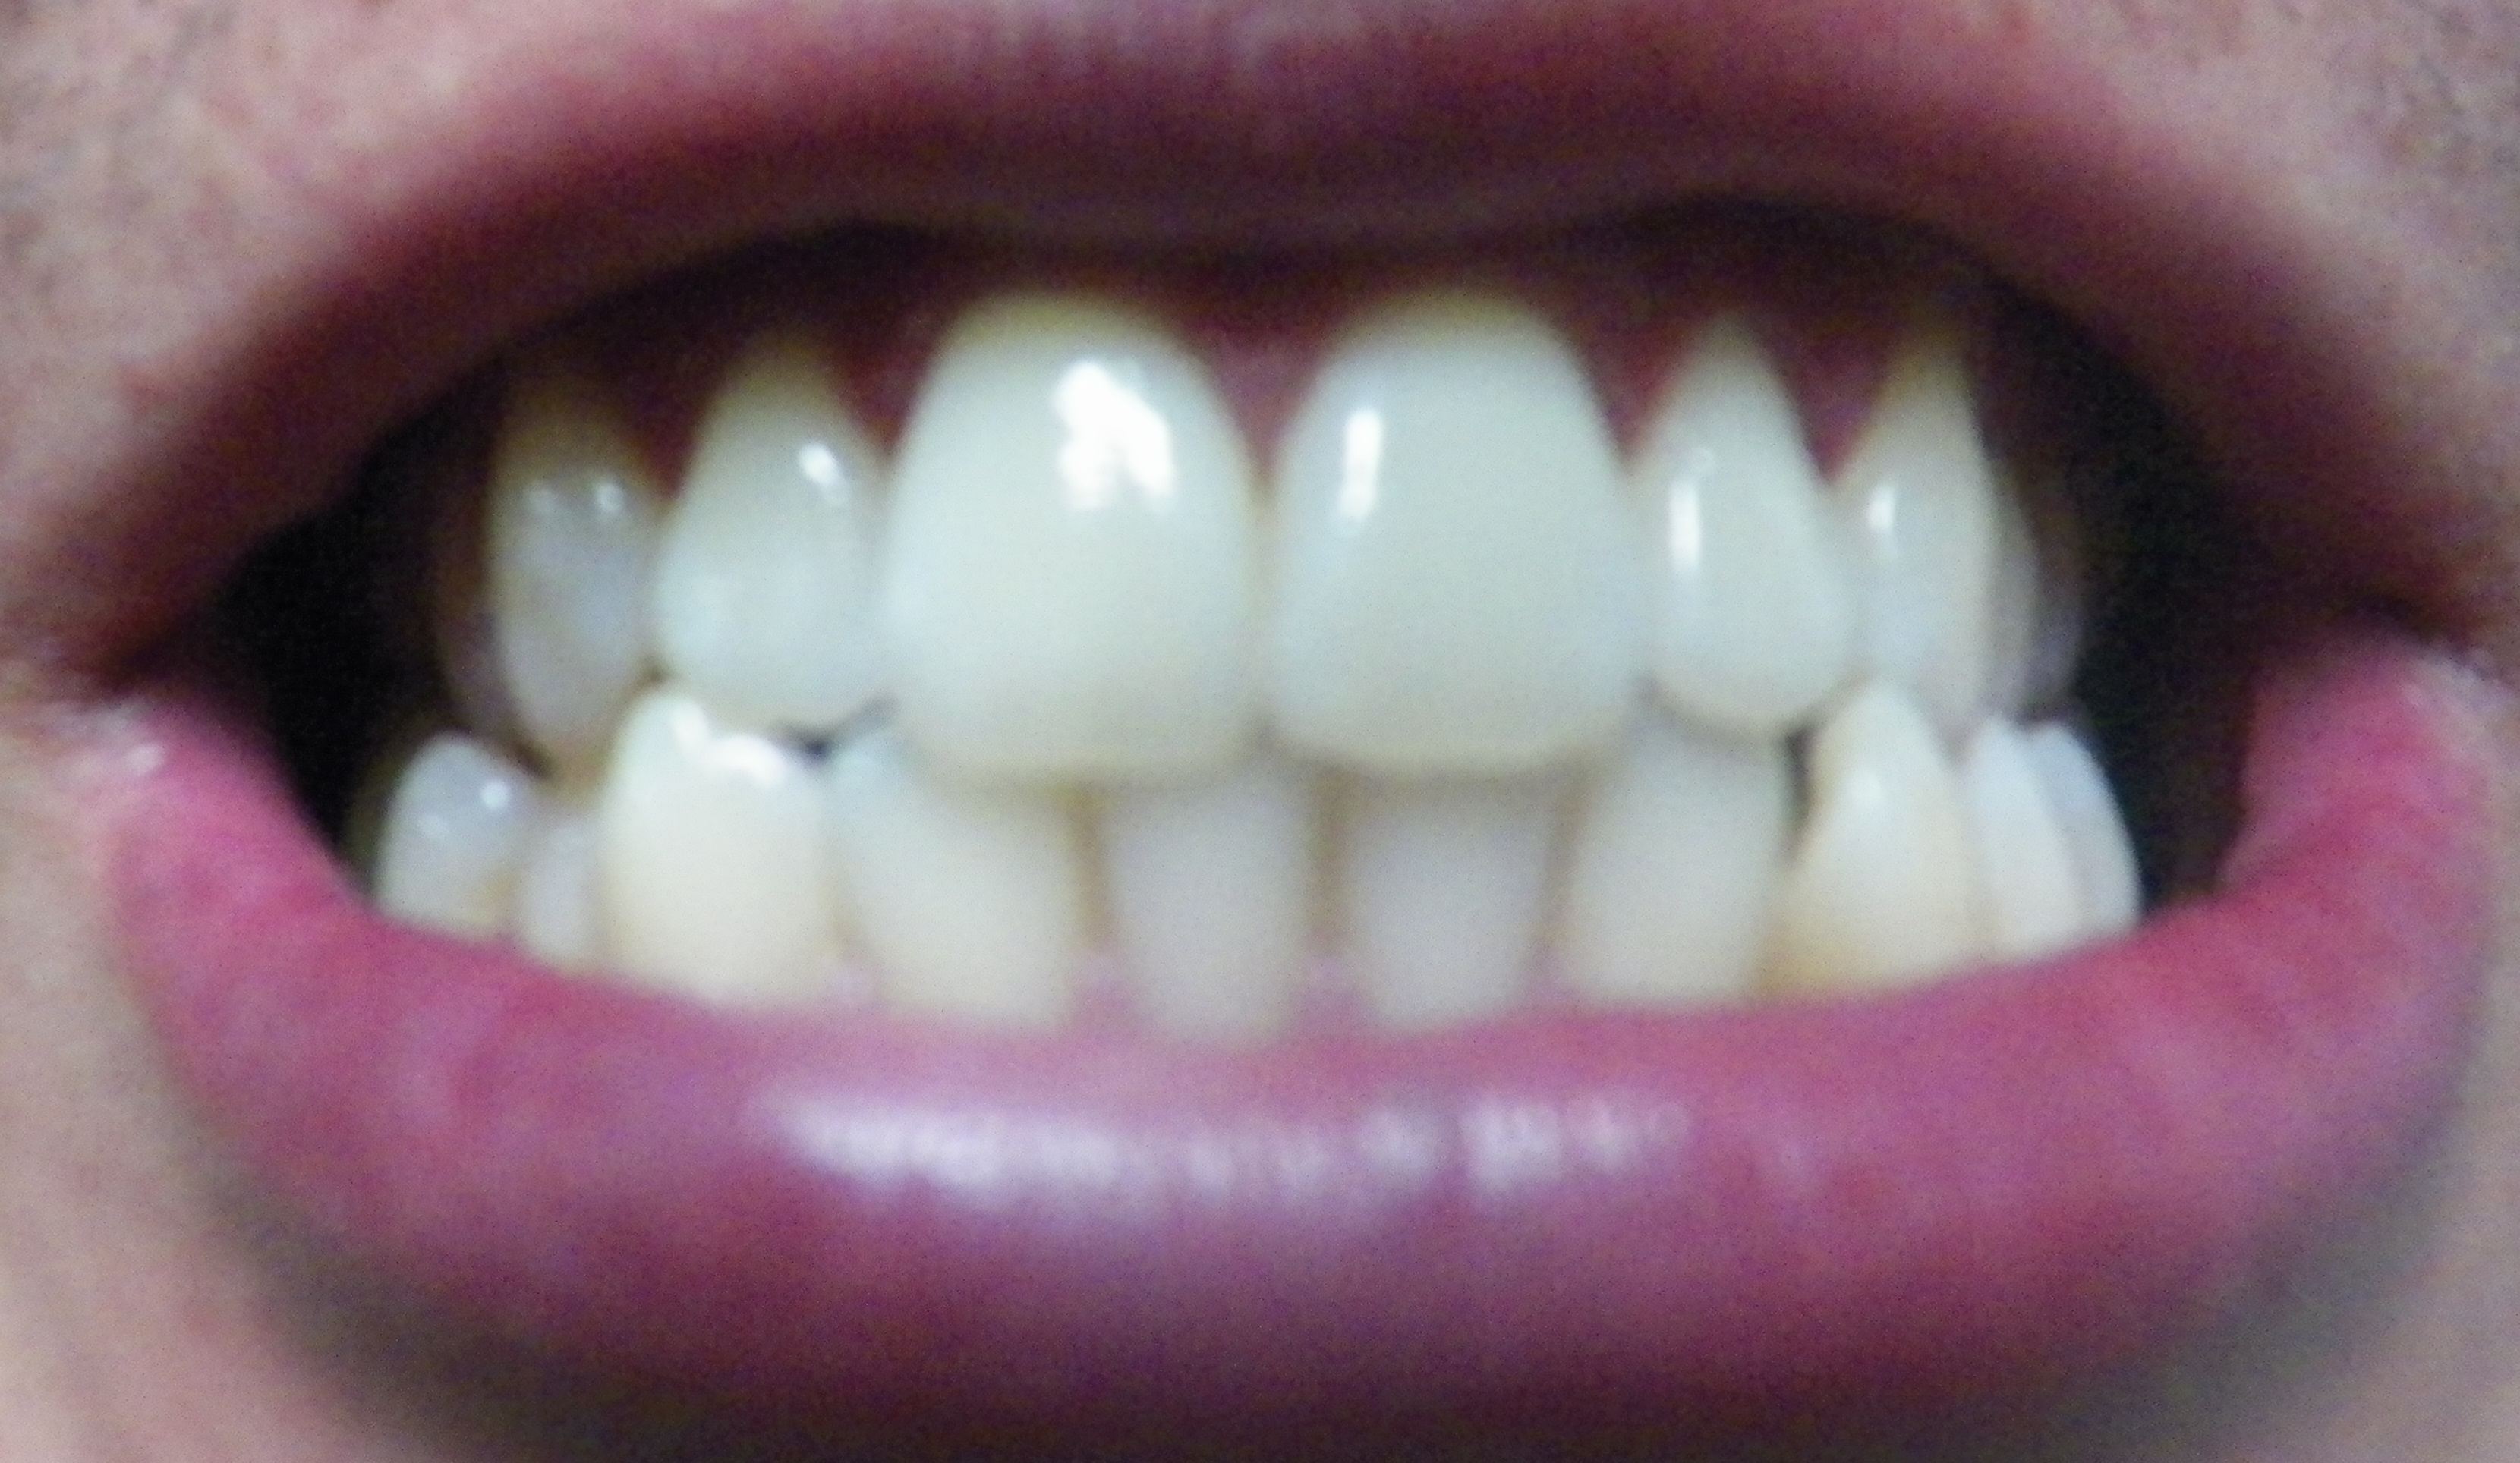boca: (385, 289, 2161, 965)
